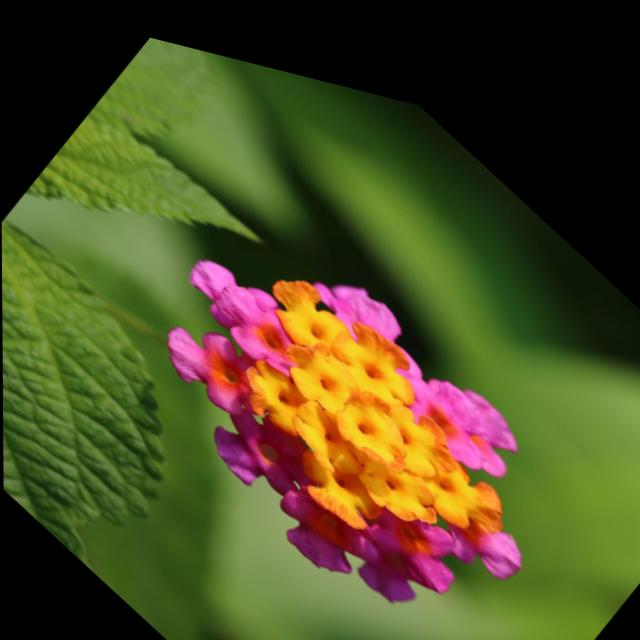Flower: (98, 126, 623, 640)
